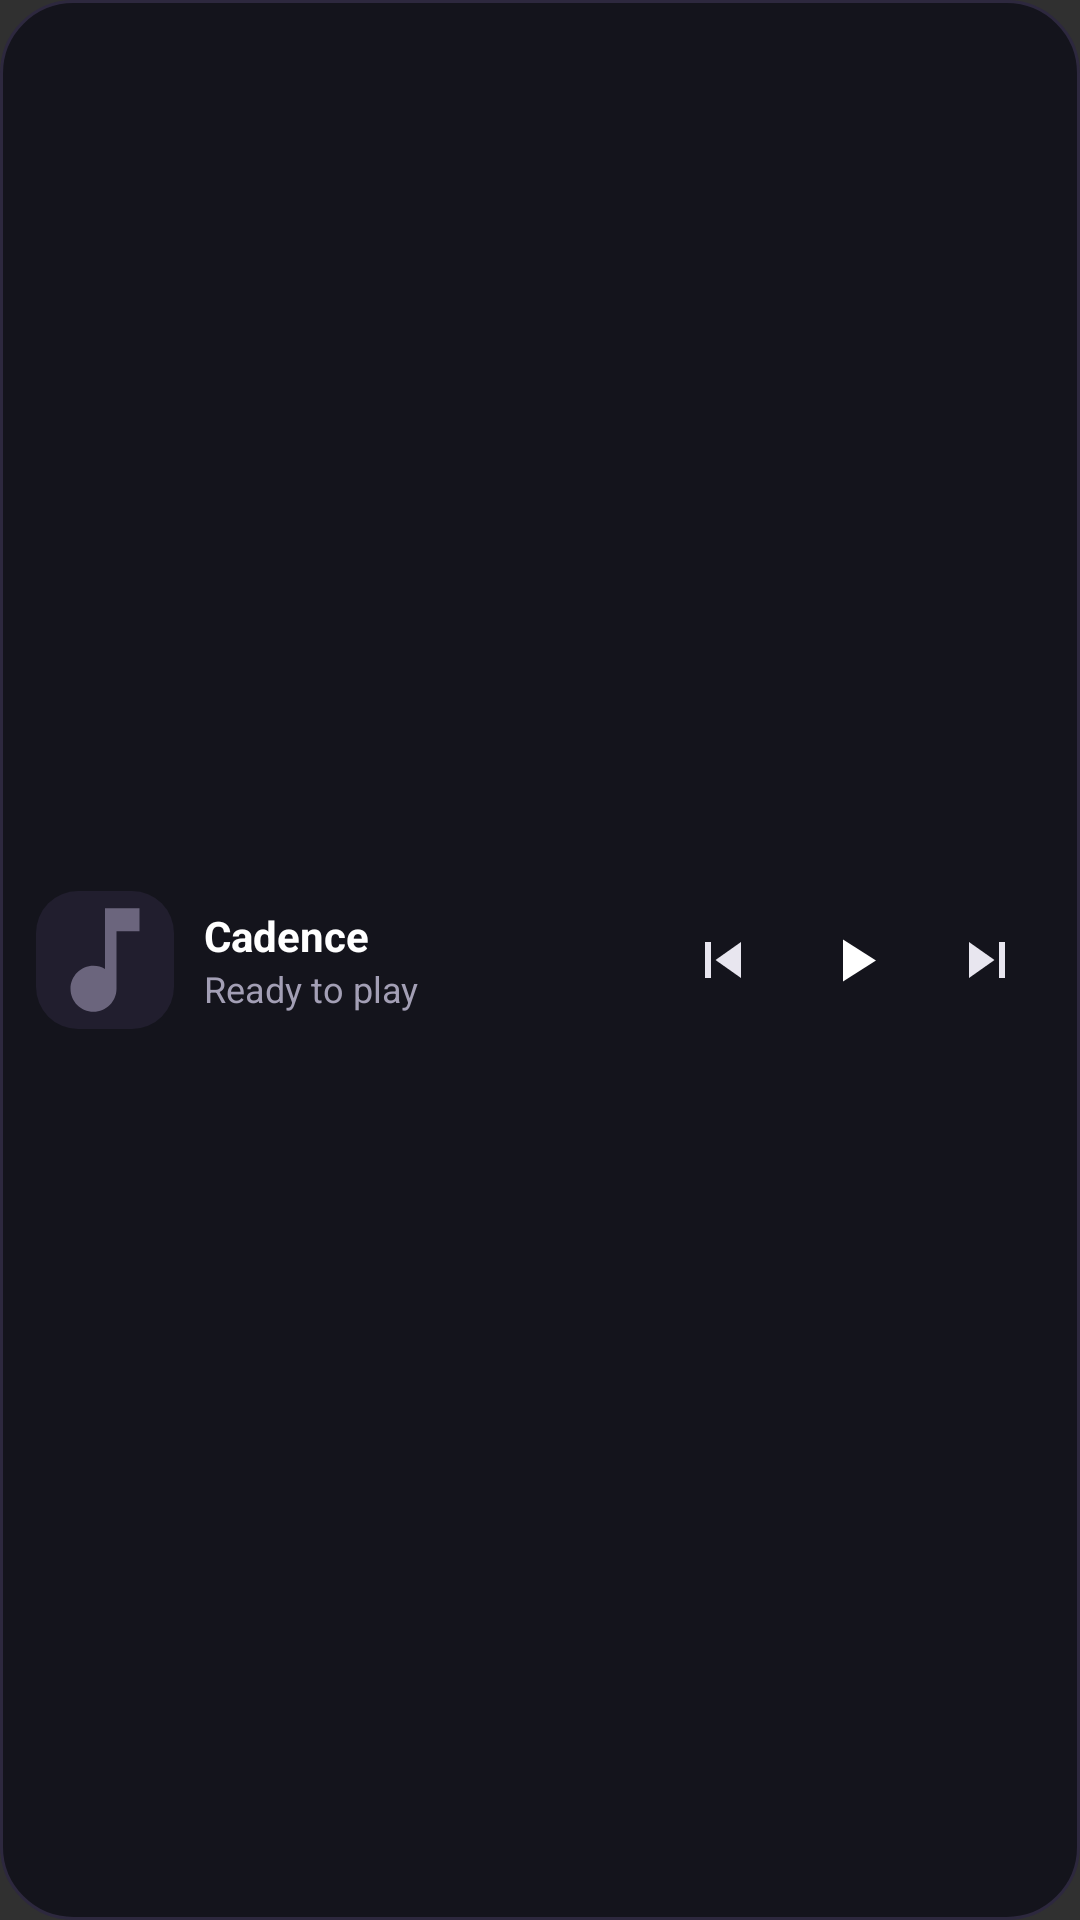

Screen size 1080*1920. Icon name, then its center in pixels as (x=x, y=y):
Album Art: (x=105, y=960)
Next: (x=987, y=960)
Play or Pause: (x=859, y=960)
Previous: (x=723, y=960)
